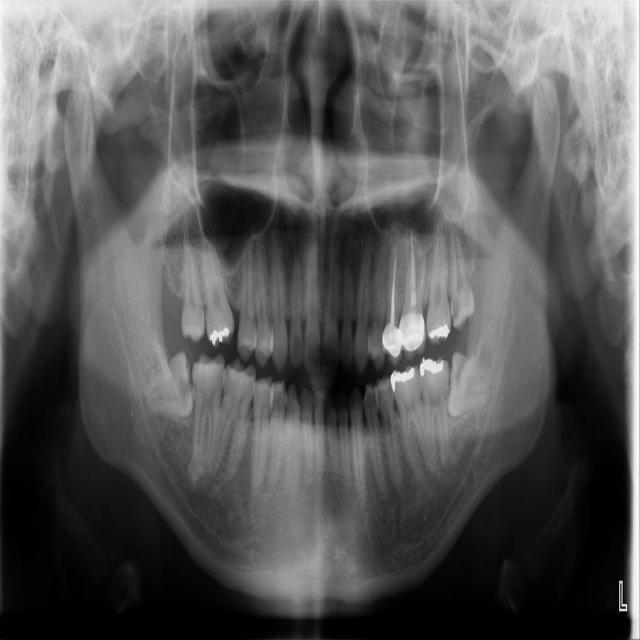3M ESPE Implant: (178, 231, 206, 345)
52: (217, 355, 263, 404), (386, 362, 429, 408), (398, 311, 429, 361), (204, 308, 237, 348), (419, 357, 452, 396), (426, 299, 452, 346), (382, 320, 402, 366), (452, 298, 459, 321)
73: (401, 230, 431, 316), (385, 240, 402, 323), (609, 582, 613, 590)
BioHorizons Implant: (426, 225, 451, 346)
BioLife Implant: (449, 221, 476, 332)
Biomet 3i Implant: (447, 352, 495, 419)
Blue Sky Bio Implant: (418, 354, 457, 469)
Caries: (198, 231, 235, 348)
Implant: (190, 351, 229, 470)
Keystone Dental Implant: (144, 351, 196, 419)
